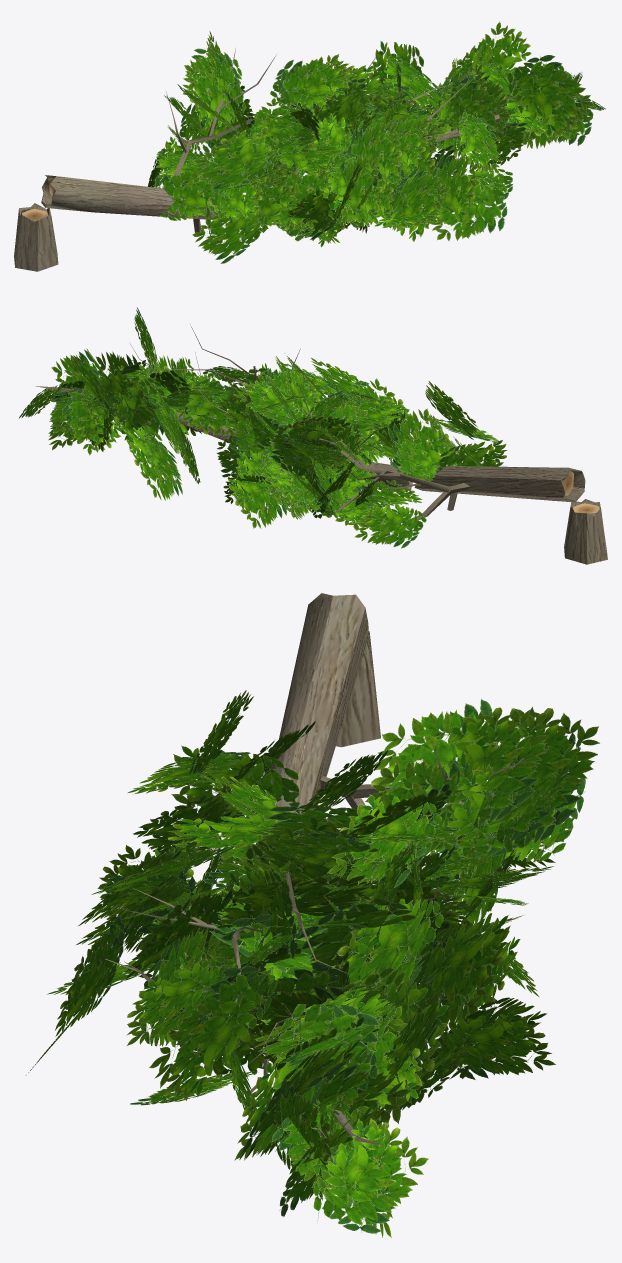
The model's file is jungle_fallentree_3.glb.
3 views of the same model, one above another, from view 1: azimuth 30°, elevation 25°; view 2: azimuth 150°, elevation 25°; view 3: azimuth 270°, elevation 25° (orthographic). The views are drawn at different scales.
Parts seen in each view (by area): view 1: jungle_fallentree_3; view 2: jungle_fallentree_3; view 3: jungle_fallentree_3.
Boxes of the visible parts, box(x1,y1,x2,y2) form: jungle_fallentree_3: box(14, 21, 605, 271); jungle_fallentree_3: box(19, 307, 607, 564); jungle_fallentree_3: box(26, 593, 599, 1237).
Size of the model in its own units: 14.33 by 3.79 by 6.66.
3 materials, 3 textured.
